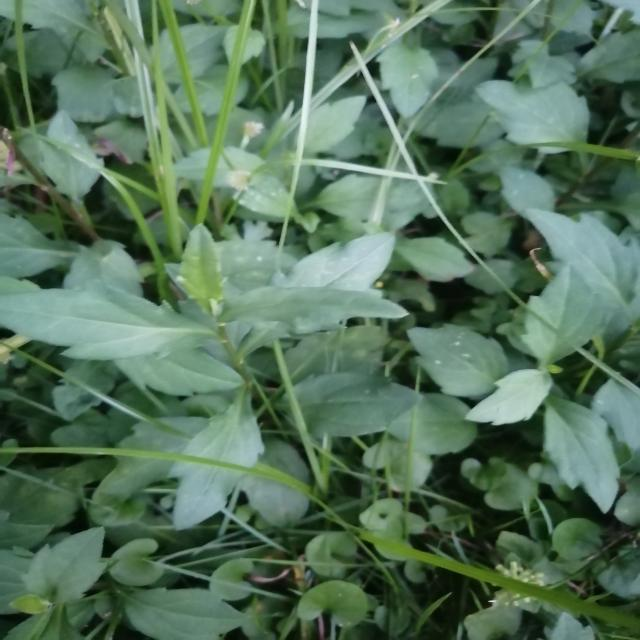Indian aster: (43, 237, 384, 493), (427, 192, 635, 508)
